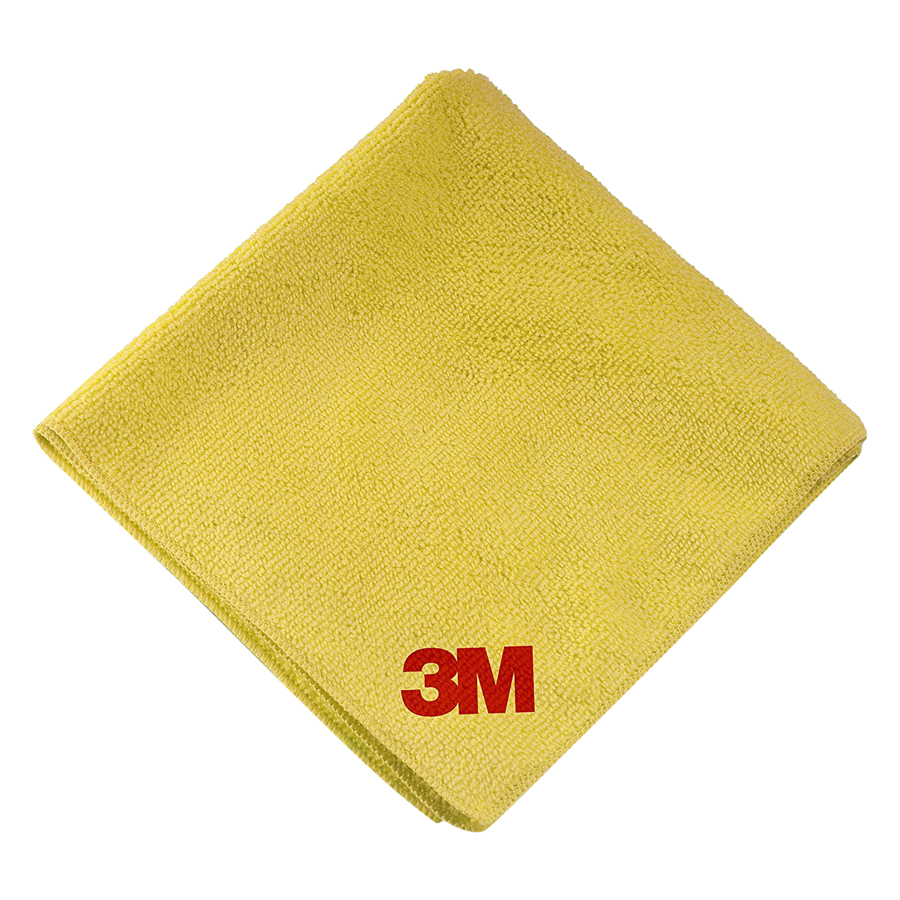3M: (382, 636, 553, 731)
